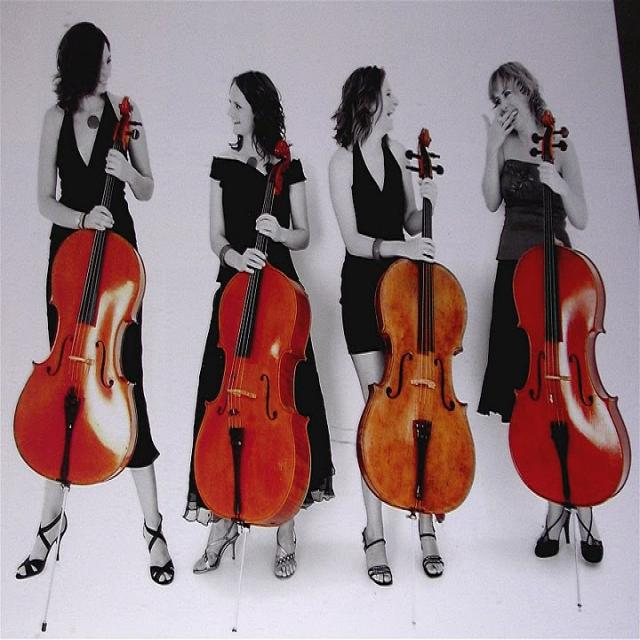cello: (12, 92, 149, 487), (506, 108, 634, 511), (351, 125, 478, 520), (190, 139, 314, 534)
